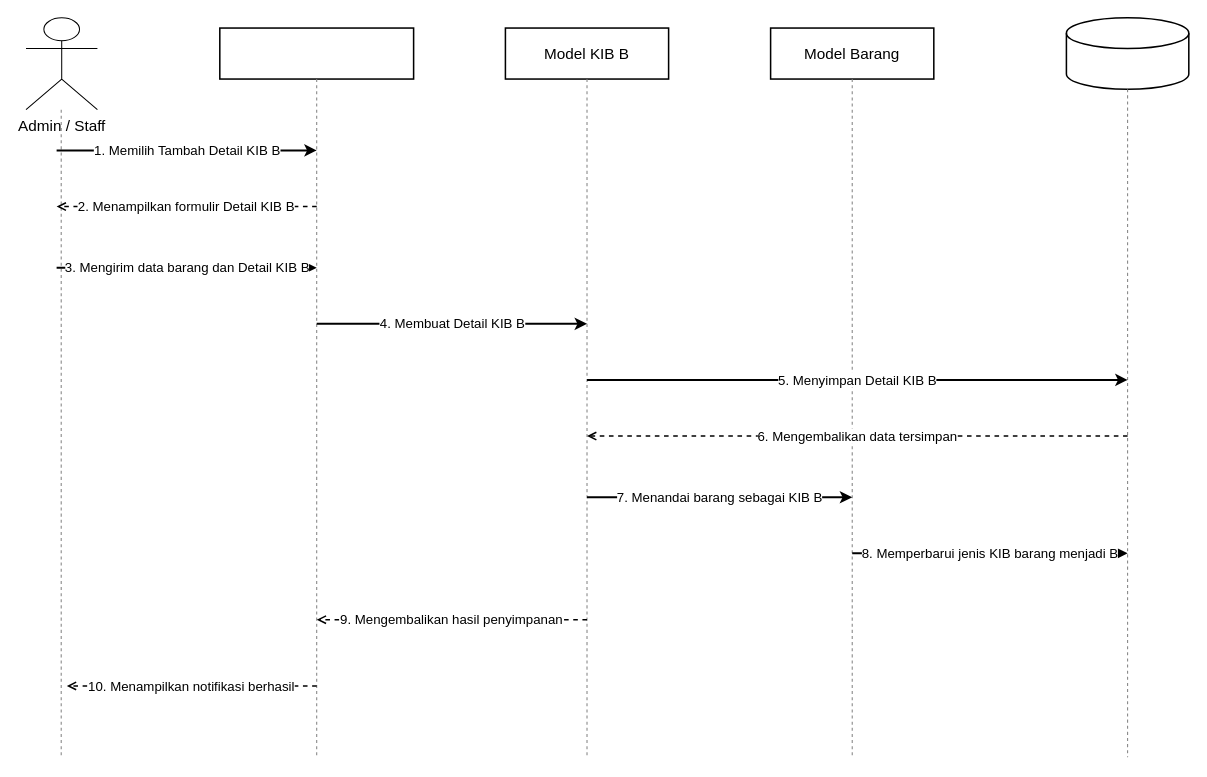
The diagram is 1207 pixels wide and 777 high, and some of its shapes have lost their labels. The shapes that lost their labels are listed below. From the top down, each one's box as (x1, y1, x2, y2) in pixels, then its label:
(219, 27, 414, 79): Halaman Detail KIB B
(1065, 17, 1189, 90): Database
